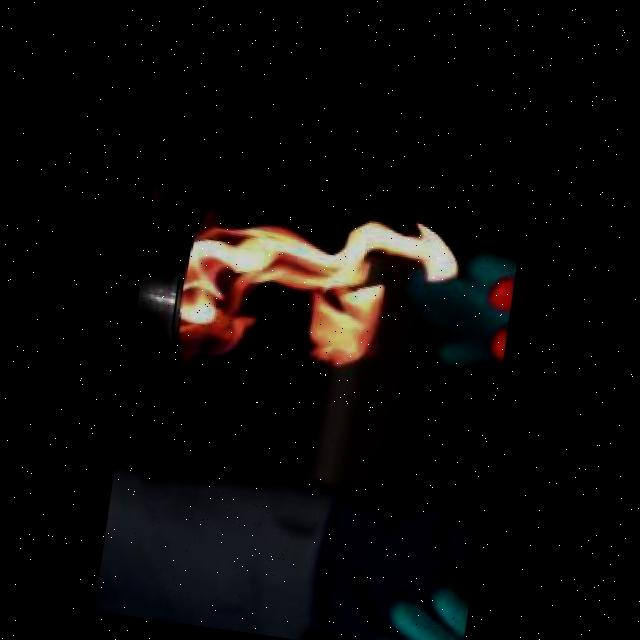fire: (166, 186, 482, 394)
